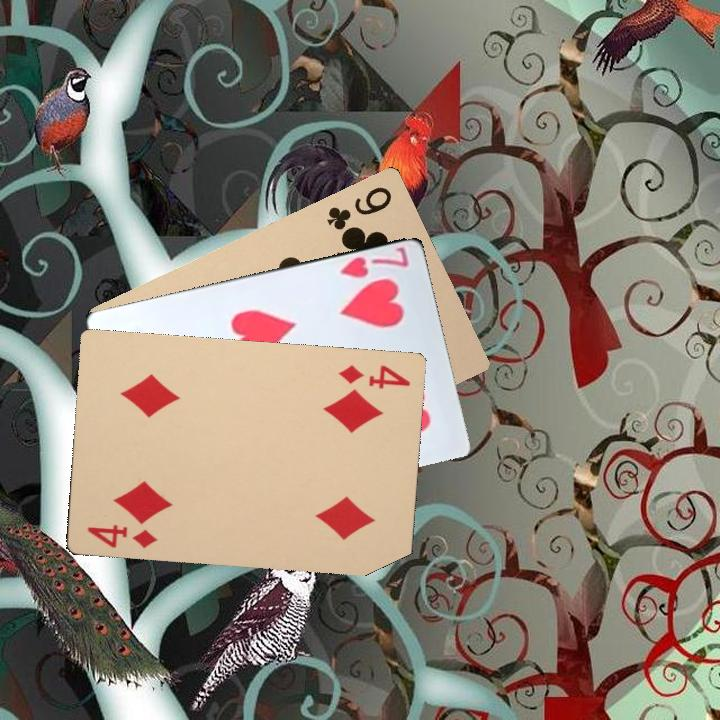4d: (334, 361, 413, 391), (83, 520, 159, 551)
7h: (336, 242, 412, 281)
9c: (322, 182, 395, 236)
